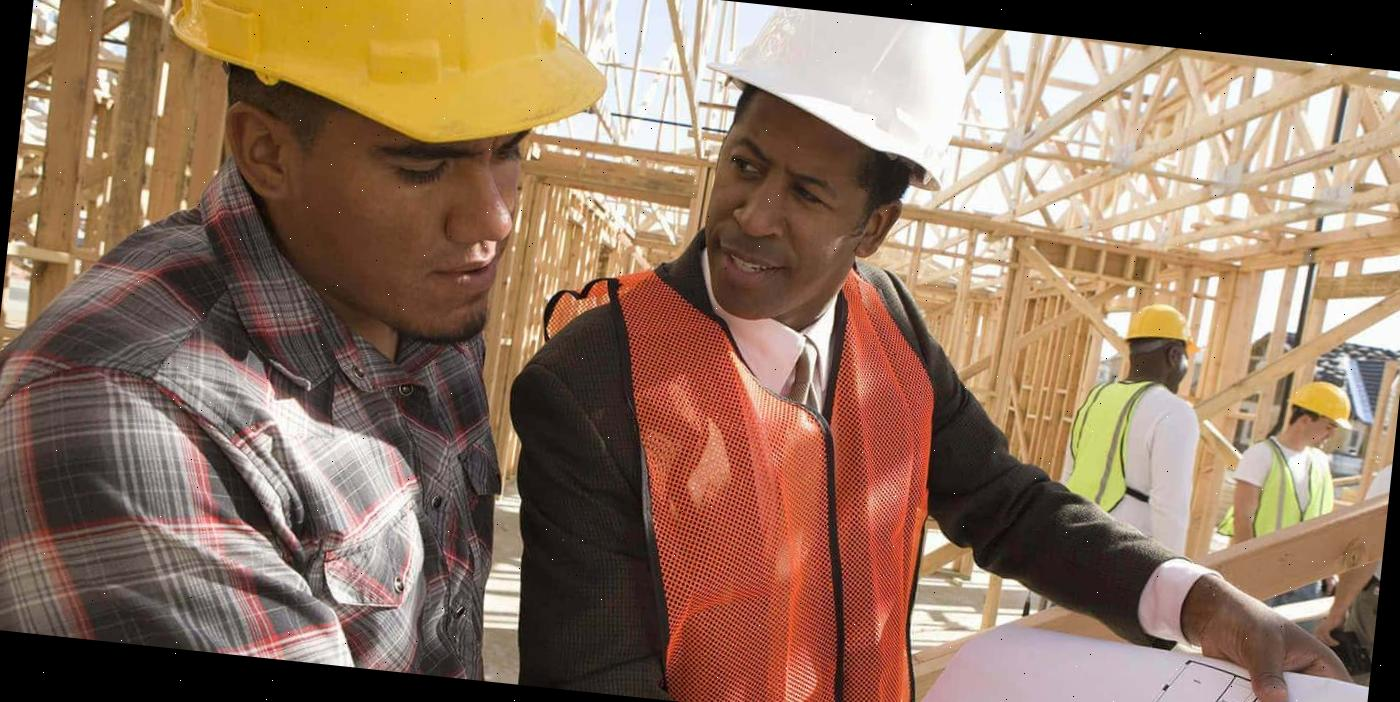helmet: (131, 0, 628, 169), (693, 0, 977, 196), (1279, 374, 1363, 430), (1122, 297, 1202, 354)
no_wear: (0, 289, 510, 680)
wear: (526, 287, 963, 702), (1064, 376, 1209, 537), (1222, 438, 1337, 552)
